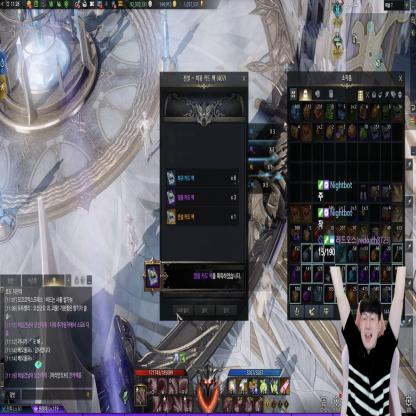streamer: (330, 266, 406, 416)
